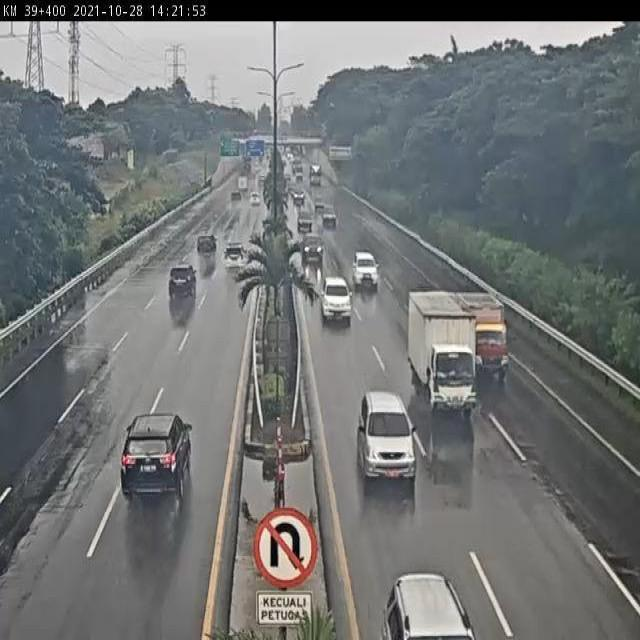car: (121, 408, 193, 495), (359, 389, 418, 484), (319, 275, 353, 324), (352, 247, 380, 289), (168, 262, 199, 298), (222, 242, 250, 274), (302, 233, 325, 264), (196, 231, 218, 257)
truck-m-: (406, 290, 478, 414)
truck-s-: (458, 294, 512, 386)
